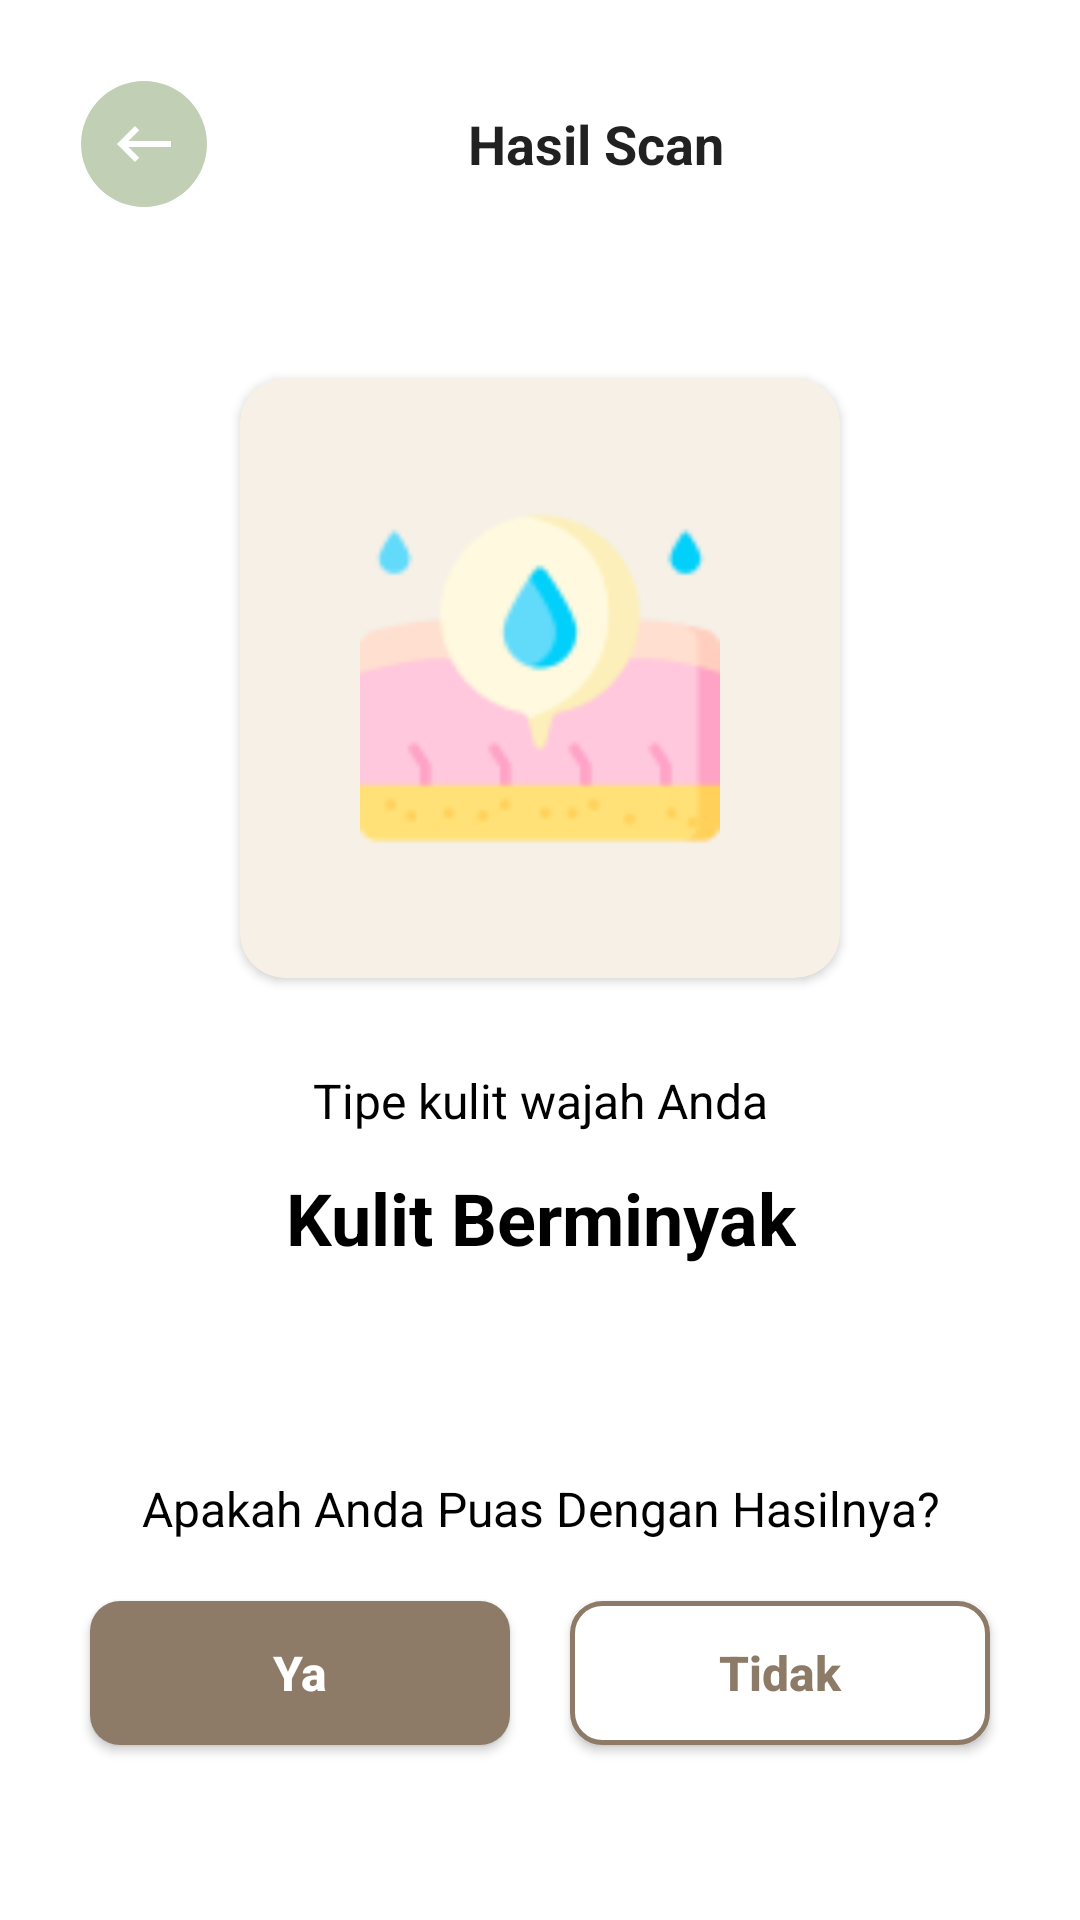

Icon bounding boxes for this 1080*1920 phone screenshot, format [left=x1, top=y1, right=x2, bottom=y2]:
Ilustrasi Gambar Kulit: [left=360, top=515, right=720, bottom=843]
